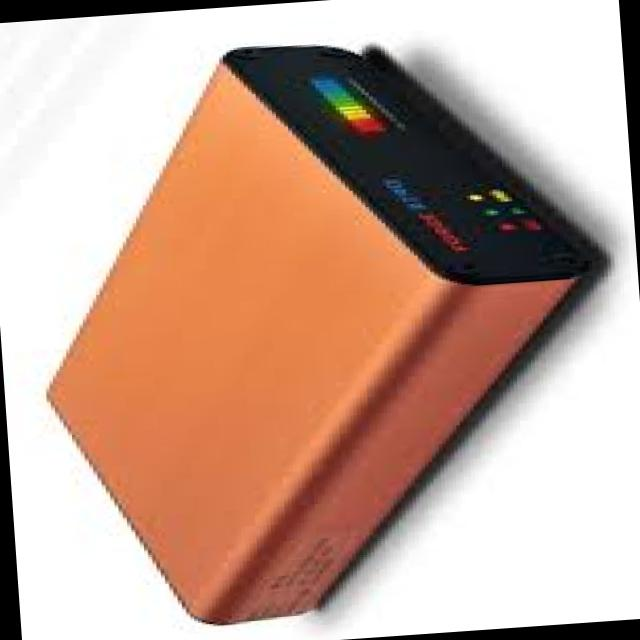portable-charger: (19, 19, 640, 632)
